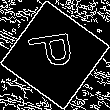P_E: (27, 33, 83, 77)
